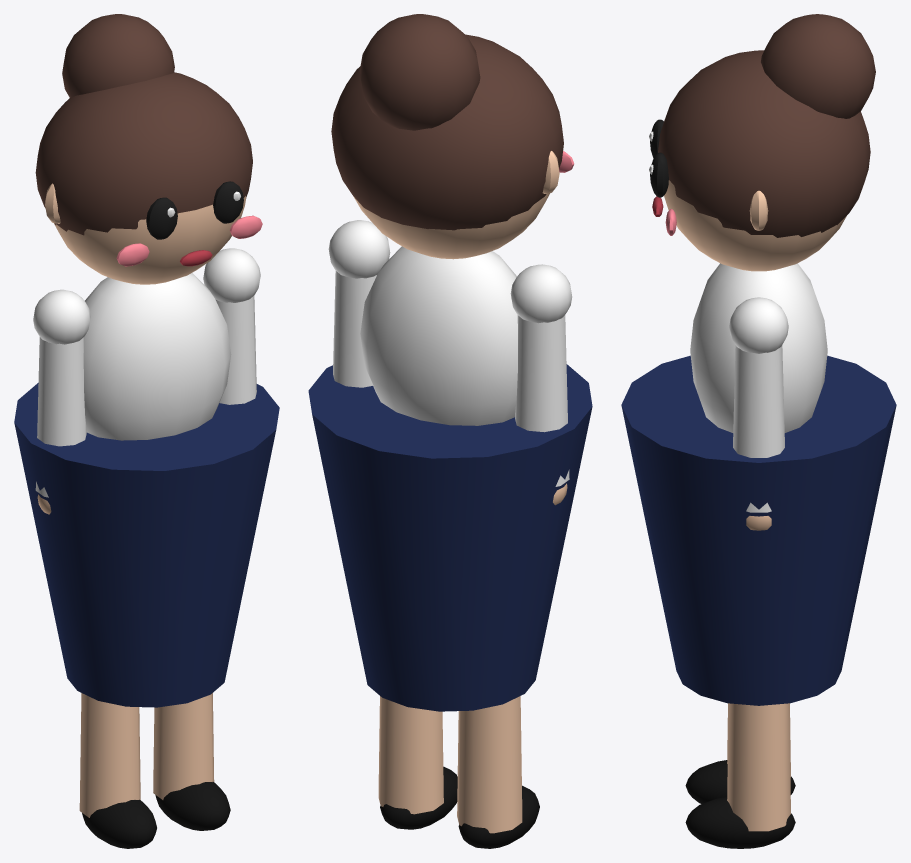
The model's file is dina_girl_bun.glb.
3 renders of one model, left to right at view 1: azimuth 30°, elevation 25°; view 2: azimuth 150°, elevation 25°; view 3: azimuth 270°, elevation 25°, orthographic. The views are drawn at different scales.
Visible parts, largest first — view 1: Body.002, Leg_R.002, Leg_L.002, Arm_R.002, Arm_L.002; view 2: Body.002, Leg_R.002, Arm_R.002, Leg_L.002, Arm_L.002; view 3: Body.002, Leg_L.002, Arm_L.002, Leg_R.002.
Part boxes in pixels (x1=…): Body.002: x1=14, y1=14, x2=279, y2=707; Leg_R.002: x1=79, y1=693, x2=156, y2=848; Leg_L.002: x1=153, y1=693, x2=230, y2=830; Arm_R.002: x1=33, y1=289, x2=90, y2=514; Arm_L.002: x1=203, y1=248, x2=260, y2=404; Body.002: x1=308, y1=14, x2=592, y2=711; Leg_R.002: x1=457, y1=696, x2=539, y2=848; Arm_R.002: x1=510, y1=264, x2=572, y2=505; Leg_L.002: x1=378, y1=696, x2=457, y2=829; Arm_L.002: x1=328, y1=220, x2=390, y2=387; Body.002: x1=621, y1=14, x2=896, y2=705; Leg_L.002: x1=685, y1=703, x2=795, y2=848; Arm_L.002: x1=729, y1=297, x2=788, y2=530; Leg_R.002: x1=685, y1=703, x2=795, y2=803.
Bounding box in the file's own units: 0.4296 × 1.39 × 0.4296.
